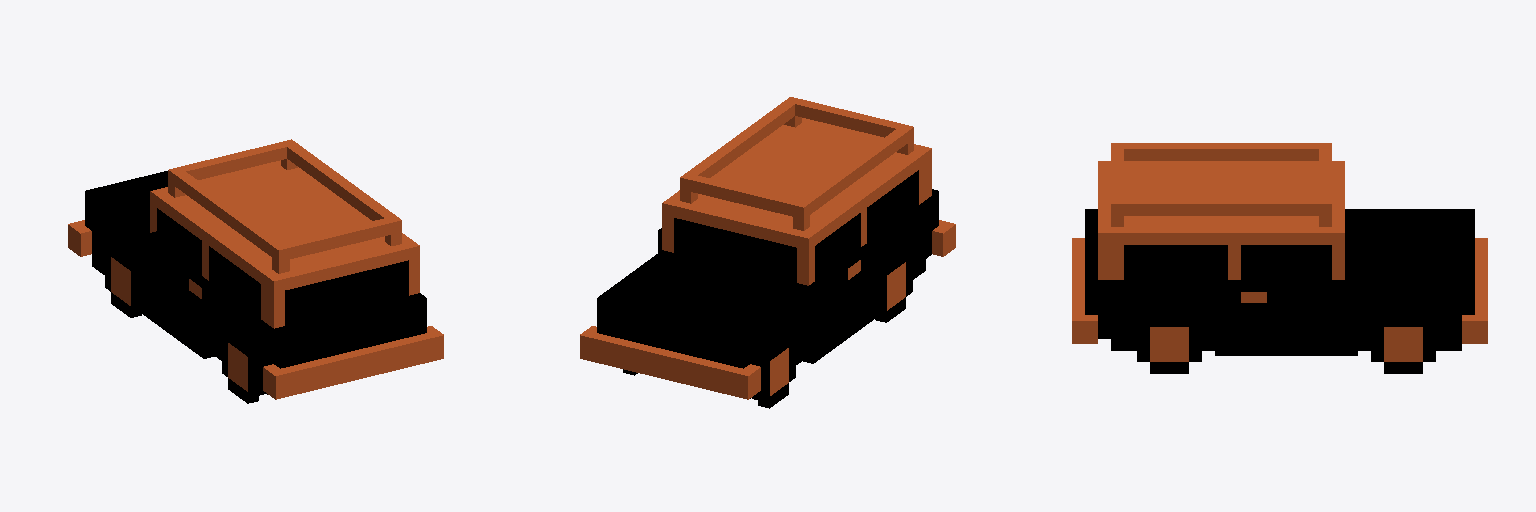
3 views of the same model, side by side, from view 1: azimuth 30°, elevation 25°; view 2: azimuth 150°, elevation 25°; view 3: azimuth 270°, elevation 25° (orthographic).
Visible parts, largest first — view 1: object 1; view 2: object 1; view 3: object 1.
Part boxes in pixels (x1,y1,x2,y2): object 1: (68, 139, 443, 403); object 1: (580, 97, 955, 408); object 1: (1072, 143, 1487, 373).
Size of the model in its own units: 1.5 by 1.4 by 3.2.
Materials: 1 (1 with a texture image).